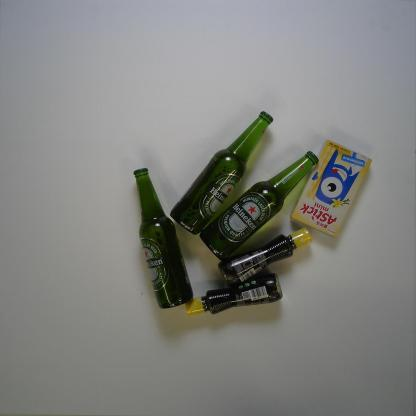Alcohol: (199, 149, 320, 261), (168, 108, 274, 235), (132, 167, 195, 311)
Dessert: (288, 140, 372, 240)
Seasoner: (217, 227, 313, 287), (184, 272, 283, 316)
